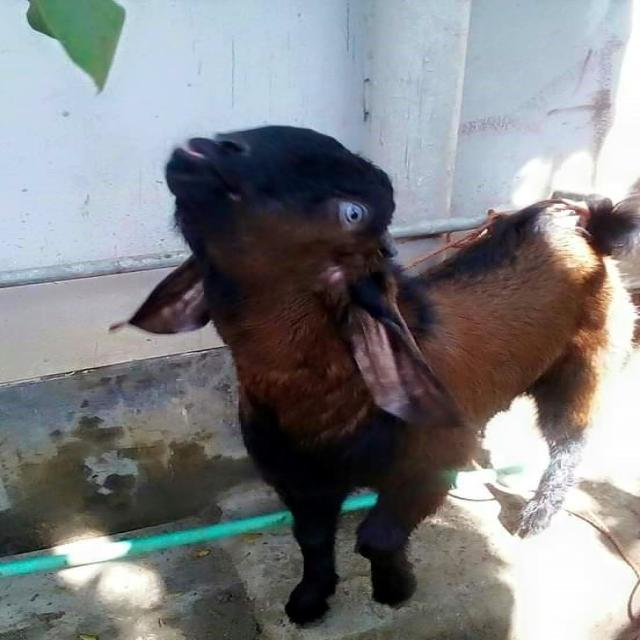Goat: (108, 123, 638, 626)
